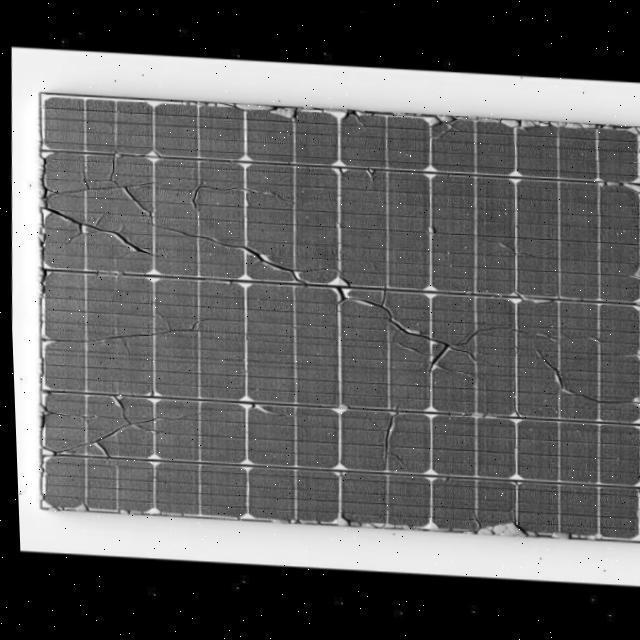Anomaly Solar Panel: (38, 92, 638, 535)
Structural Damage: (330, 283, 599, 393), (145, 193, 341, 294), (29, 367, 199, 474), (43, 139, 172, 217), (37, 203, 169, 271), (522, 341, 640, 412), (36, 304, 212, 349), (184, 172, 307, 210), (478, 225, 534, 260), (378, 407, 402, 463), (42, 406, 118, 418), (428, 112, 453, 141), (350, 108, 369, 135)
